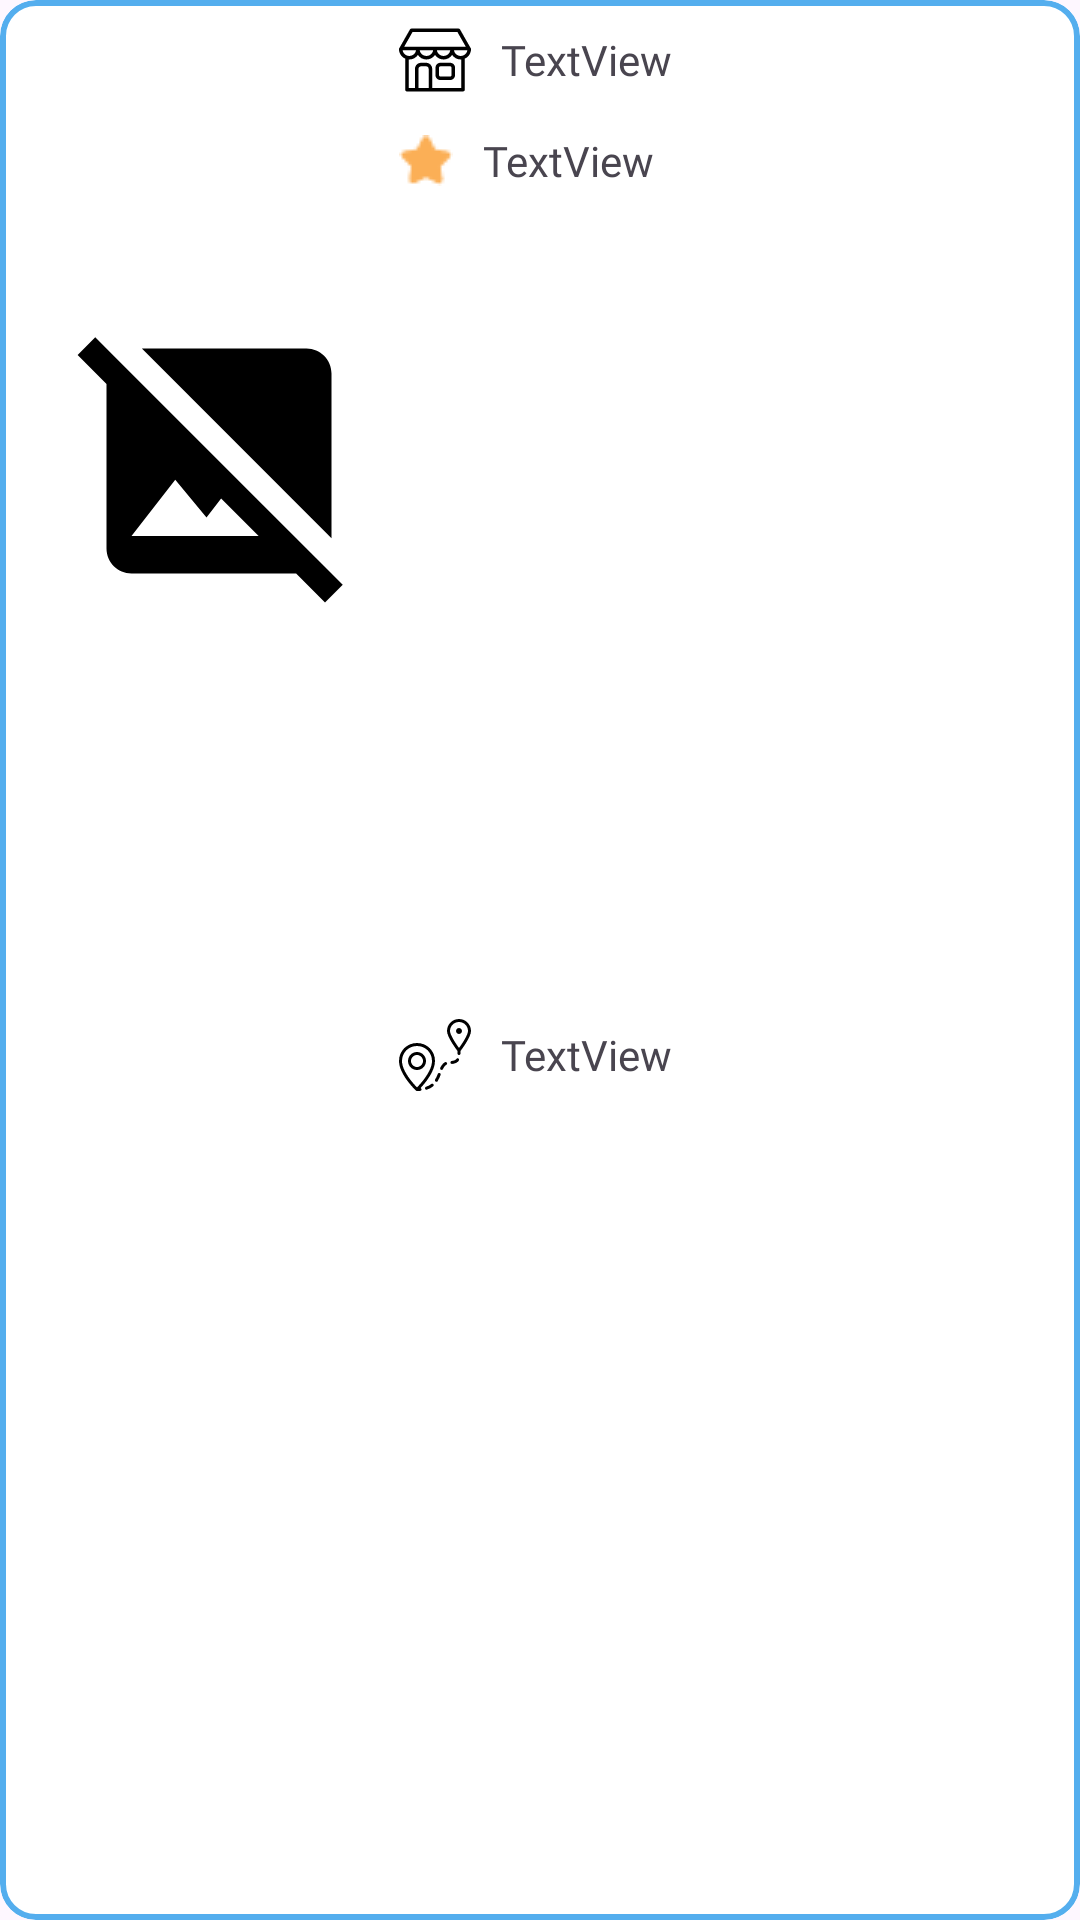

Icons on this 1080w x 1920h Android screen, each with the point to tap as point (x, y):
distance: point (435, 1055)
shop: point (435, 60)
star full: point (425, 159)
